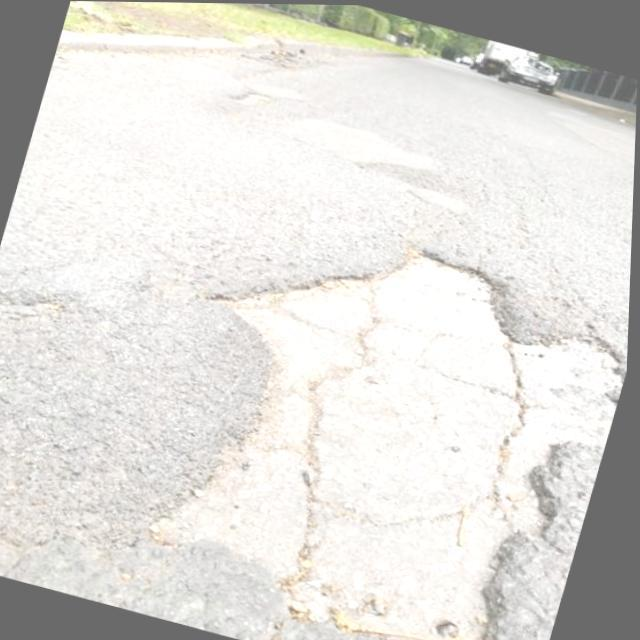Pothole: (163, 253, 628, 640)
